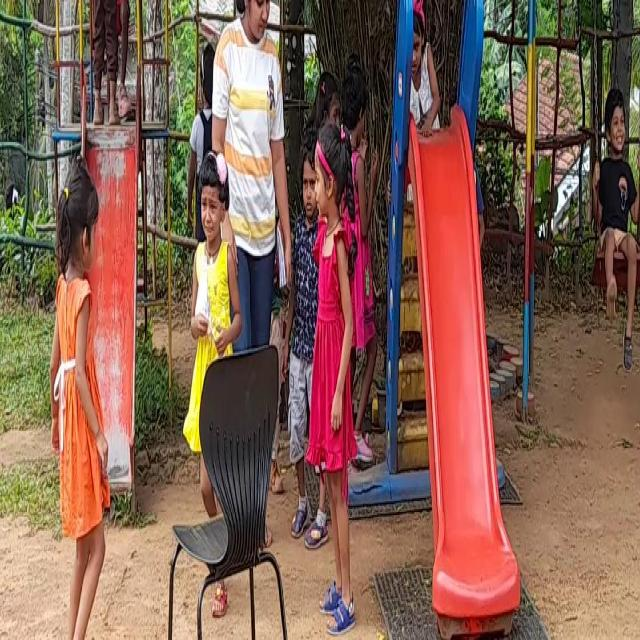child: (36, 154, 124, 640), (314, 137, 376, 628), (598, 74, 640, 386), (84, 0, 140, 122)
